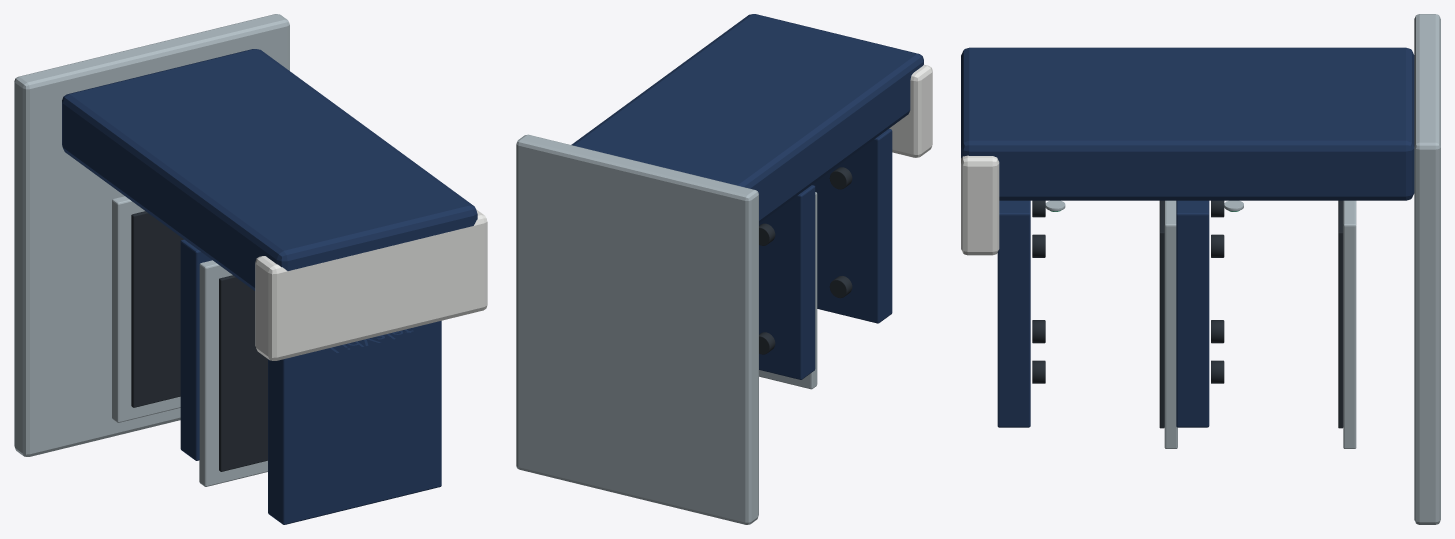
Rendered from highres_lidvalet.glb.
3 views of the same model, side by side, from view 1: azimuth 30°, elevation 25°; view 2: azimuth 150°, elevation 25°; view 3: azimuth 270°, elevation 25° (orthographic). The views are drawn at different scales.
Parts seen in each view (by area): view 1: Fixed_vacuum_plenum, Button_bezel, Top_valve_block, Nest_registration_pad; view 2: Button_bezel, Fixed_vacuum_plenum, Top_valve_block, Nest_registration_pad; view 3: Fixed_vacuum_plenum, Button_bezel, Nest_registration_pad, Top_valve_block.
Boxes of the visible parts, box(x1,y1,x2,y2) form: Fixed_vacuum_plenum: box(62, 49, 477, 524); Button_bezel: box(14, 14, 289, 486); Top_valve_block: box(255, 209, 487, 360); Nest_registration_pad: box(131, 211, 267, 471); Button_bezel: box(516, 134, 817, 524); Fixed_vacuum_plenum: box(571, 14, 923, 379); Top_valve_block: box(889, 64, 932, 157); Nest_registration_pad: box(759, 167, 852, 354); Fixed_vacuum_plenum: box(961, 47, 1414, 427); Button_bezel: box(1045, 14, 1440, 524); Nest_registration_pad: box(1032, 200, 1343, 428); Top_valve_block: box(961, 155, 999, 255).
Size of the model in its own units: 0.19 by 0.255 by 0.29.
